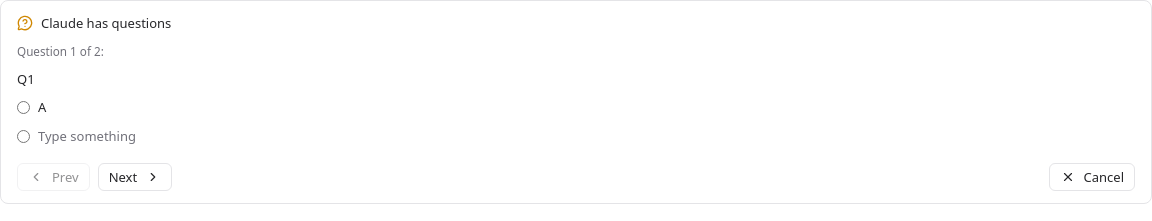
Test: ApprovalCard — AskUserQuestion form (parsed from content_preview) › hides Submit until the carousel is on the final question
Click the button with test id "ask-user-question-next": (135, 177) [98,163,172,191]
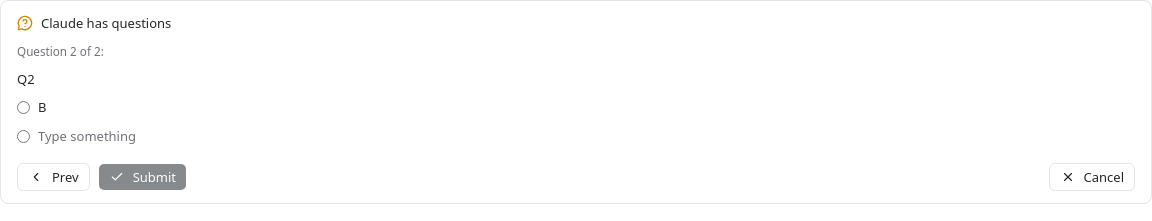
Result: the button with test id "ask-user-question-submit" is shown at [98,163,187,191]
